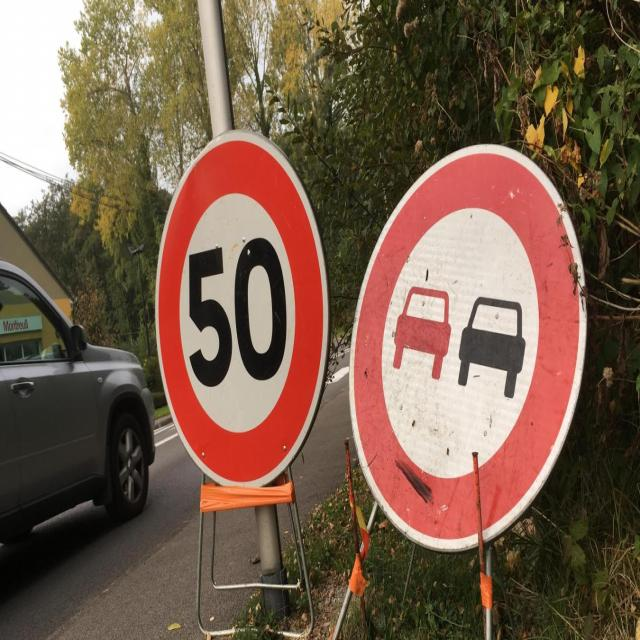no overtaking: (348, 140, 590, 554)
